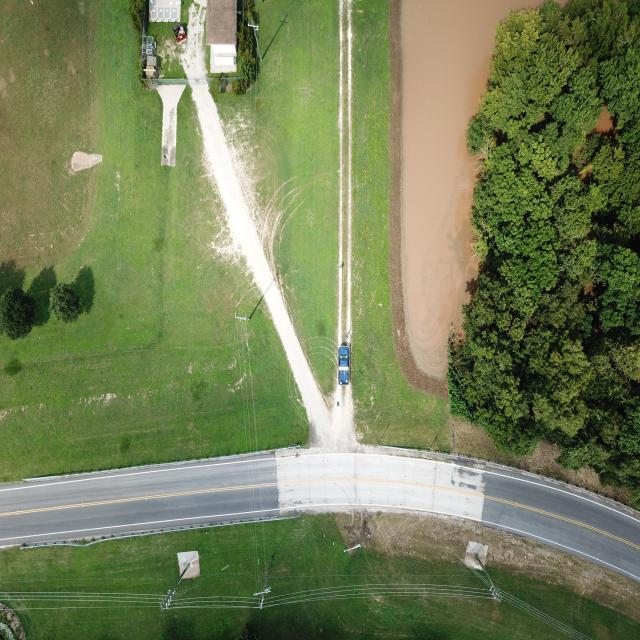fire: (401, 0, 543, 377)
